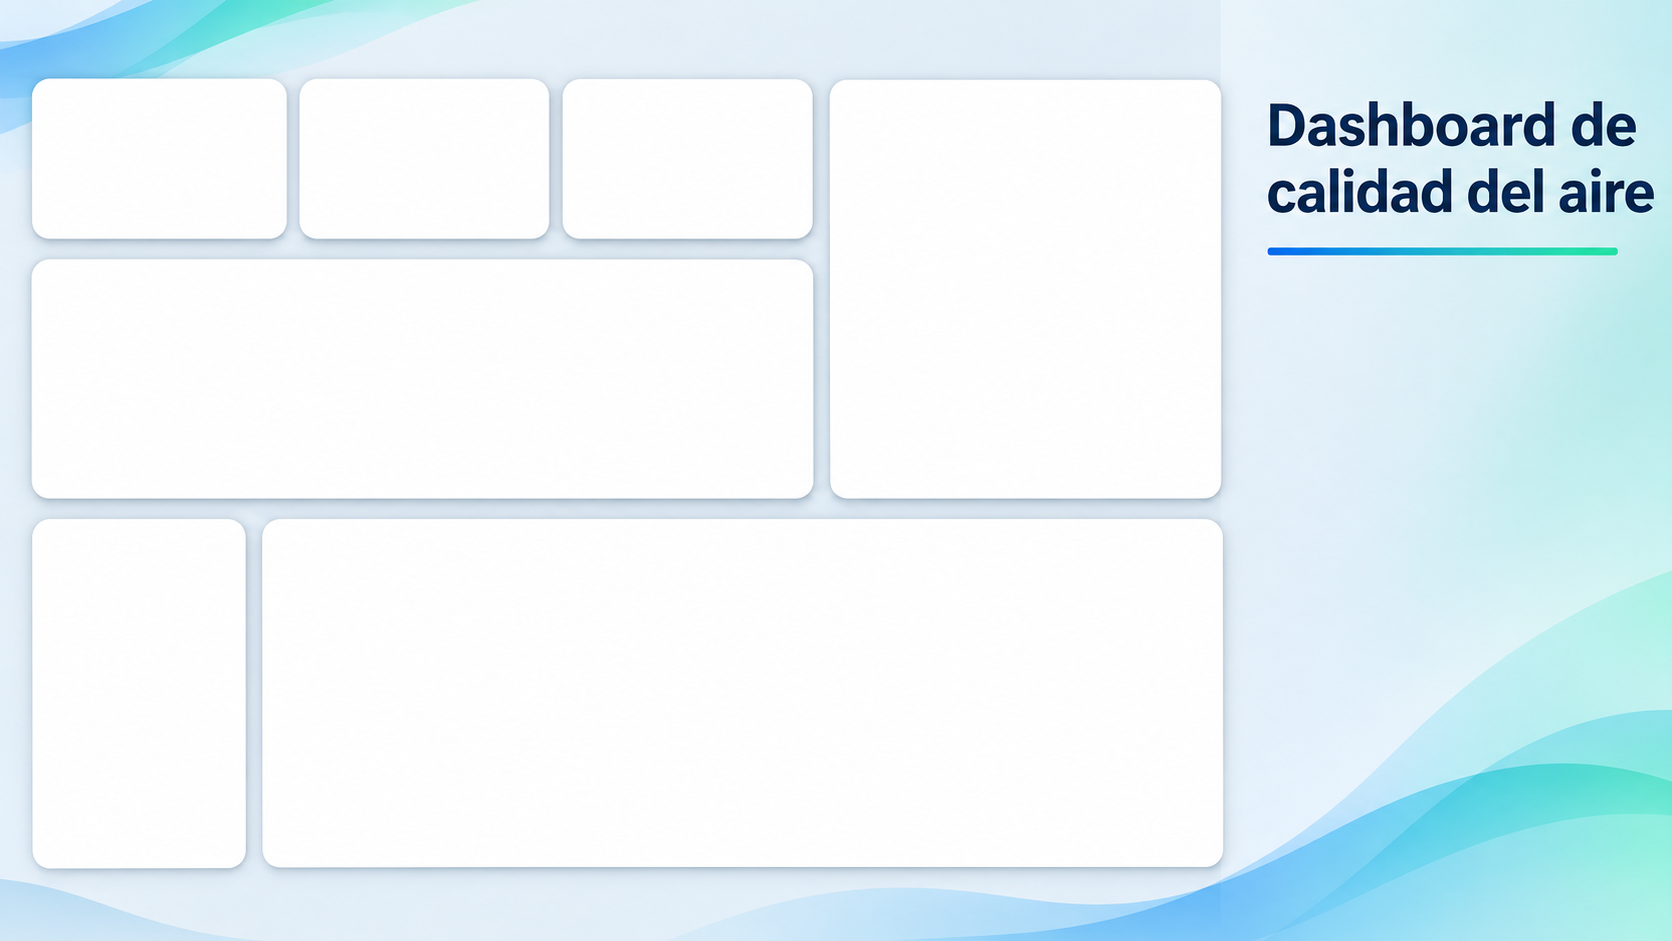

The dashboard page shown, as its layout file describes it:
{"tool":"powerbi","page":{"name":"Página 1","canvas":[1920,1080],"ordinal":0},"visuals":[{"type":"cardVisual","fields":{"Data":["Avg(hecho_calidad_aire.co_gt)"]},"box":[425.1,120.9,300,300],"z":0},{"type":"cardVisual","fields":{"Data":["Avg(hecho_calidad_aire.no2_gt)"]},"box":[74.7,120.9,300,300],"z":1000},{"type":"clusteredColumnChart","fields":{"Category":["hecho_calidad_aire.banda_co"],"Y":["CountNonNull(hecho_calidad_aire.banda_co)"]},"box":[758.7,120.9,300,300],"z":2000},{"type":"scatterChart","fields":{"Category":["hecho_calidad_aire.medicion_id"],"X":["Sum(hecho_calidad_aire.co_gt)"],"Y":["Sum(hecho_calidad_aire.pt08_s1_co)"]},"box":[1088,120,300,300],"z":3000},{"type":"slicer","fields":{"Values":["dim_tiempo.anio"]},"box":[74,432,300,300],"z":4000},{"type":"slicer","fields":{"Values":["dim_tiempo.mes"]},"box":[425,431,300,300],"z":5000},{"type":"slicer","fields":{"Values":["hecho_calidad_aire.banda_co"]},"box":[788.2,461.2,300,300],"z":6000},{"type":"textbox","box":[1398,120,300,300],"z":7000}]}

Visuals, with their boxes in screenshot pixels (x1, y1, x2, y2), scaled from the page's 1920x1080 canvas onto the 1672x941 screenshot:
cardVisual - Avg(hecho_calidad_aire.co_gt): [370,105,631,367]
cardVisual - Avg(hecho_calidad_aire.no2_gt): [65,105,326,367]
clusteredColumnChart - hecho_calidad_aire.banda_co x CountNonNull(hecho_calidad_aire.banda_co): [661,105,922,367]
scatterChart - hecho_calidad_aire.medicion_id x Sum(hecho_calidad_aire.co_gt): [947,105,1209,366]
slicer - dim_tiempo.anio: [64,376,326,638]
slicer - dim_tiempo.mes: [370,376,631,637]
slicer - hecho_calidad_aire.banda_co: [686,402,948,663]
textbox: [1217,105,1479,366]
